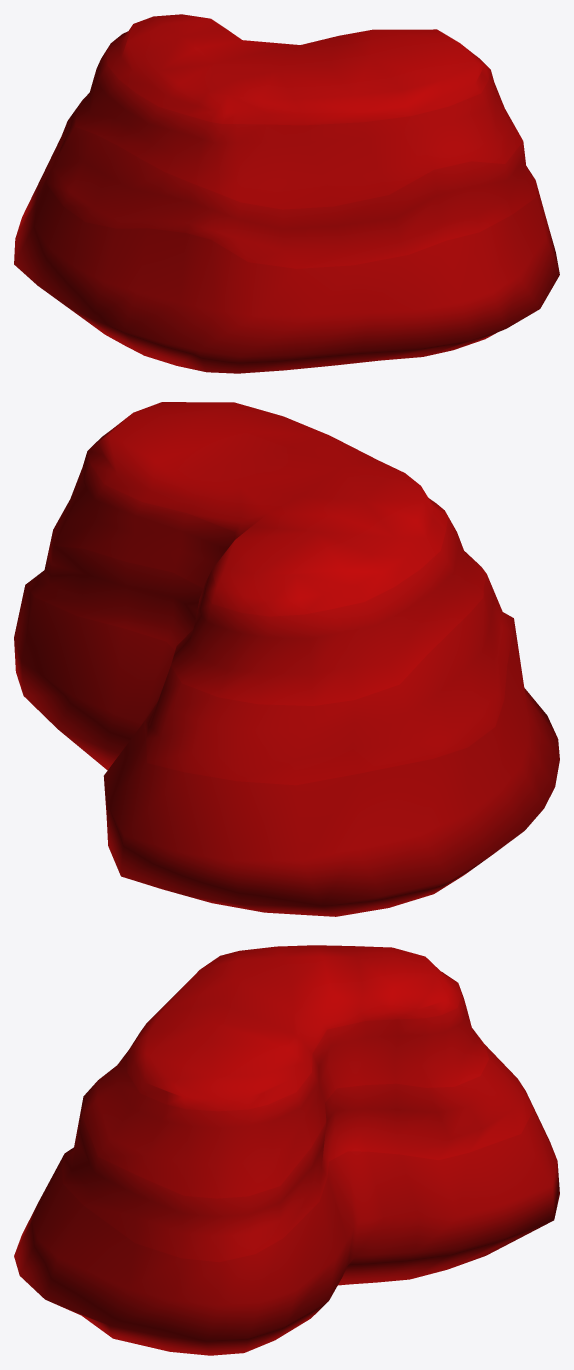
Rendered from geology-landforms-sandhill_v2.fbx.
3 views of the same model, one above another, from view 1: azimuth 30°, elevation 25°; view 2: azimuth 150°, elevation 25°; view 3: azimuth 270°, elevation 25° (orthographic). The views are drawn at different scales.
Parts seen in each view (by area): view 1: SandHill_v2; view 2: SandHill_v2; view 3: SandHill_v2.
Boxes of the visible parts, box(x1,y1,x2,y2) form: SandHill_v2: box(14, 14, 559, 373); SandHill_v2: box(14, 402, 559, 916); SandHill_v2: box(14, 945, 559, 1355).
Size of the model in its own units: 71.85 by 39.74 by 73.64.
